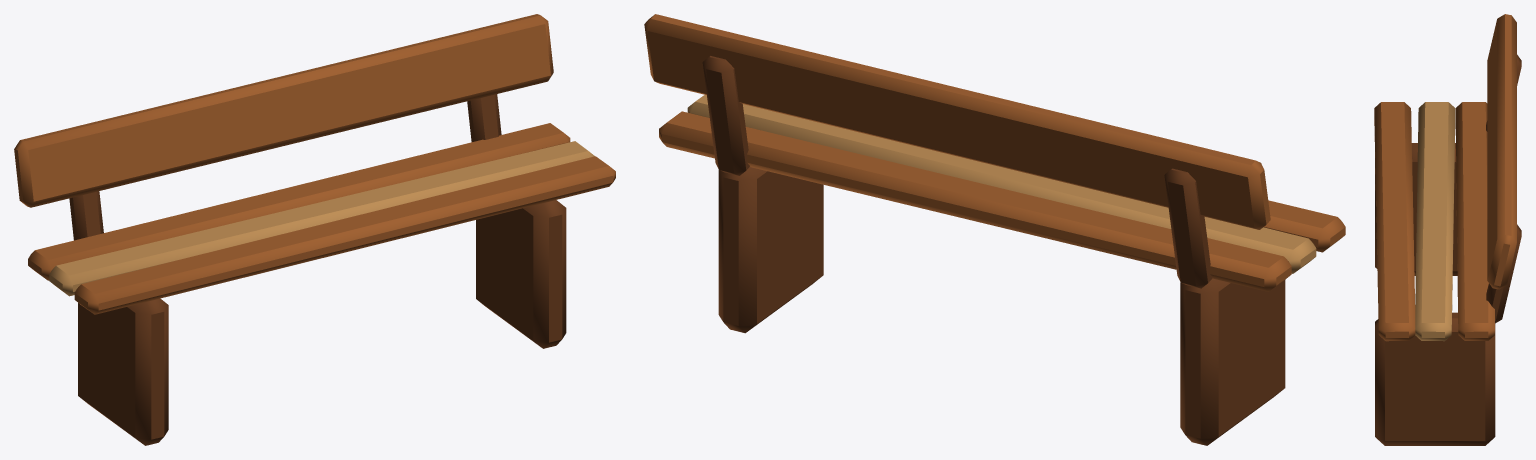
The model's file is p_bench.glb.
3 renders of one model, left to right at view 1: azimuth 30°, elevation 25°; view 2: azimuth 150°, elevation 25°; view 3: azimuth 270°, elevation 25°, orthographic. The views are drawn at different scales.
Parts seen in each view (by area): view 1: body; view 2: body; view 3: body.
Boxes of the visible parts, x1,y1,x2,y2 form: body: [14, 14, 615, 445]; body: [644, 14, 1345, 445]; body: [1374, 14, 1521, 445].
Size of the model in its own units: 1.6 by 0.7701 by 0.4403.
